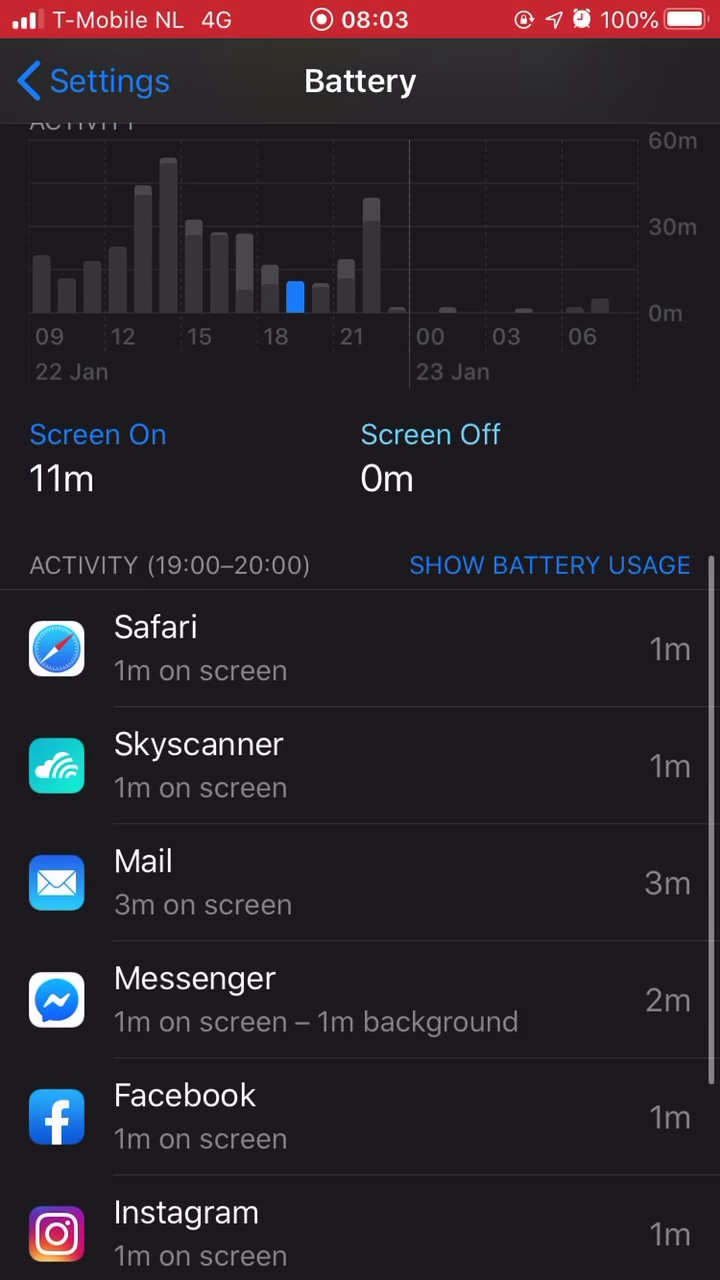activity: (15, 536, 353, 591)
app: (18, 600, 704, 697), (23, 714, 709, 811), (21, 829, 707, 926), (25, 948, 711, 1045), (21, 1069, 707, 1166), (19, 1179, 705, 1276)
